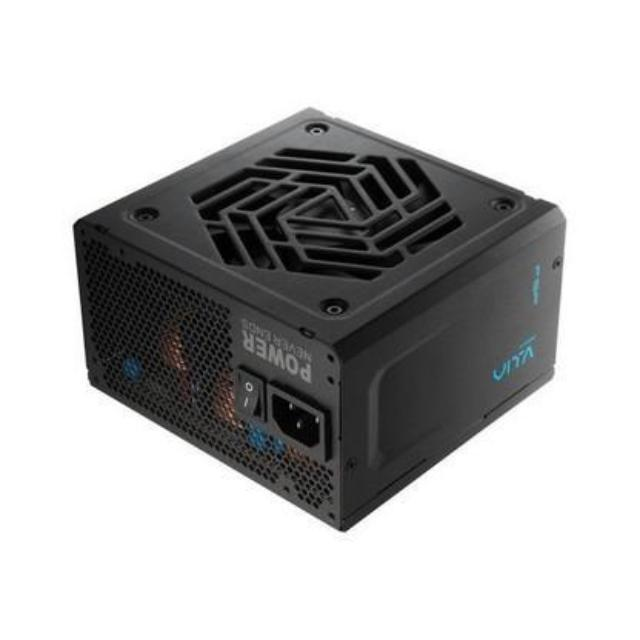PSU: (51, 91, 594, 548)
